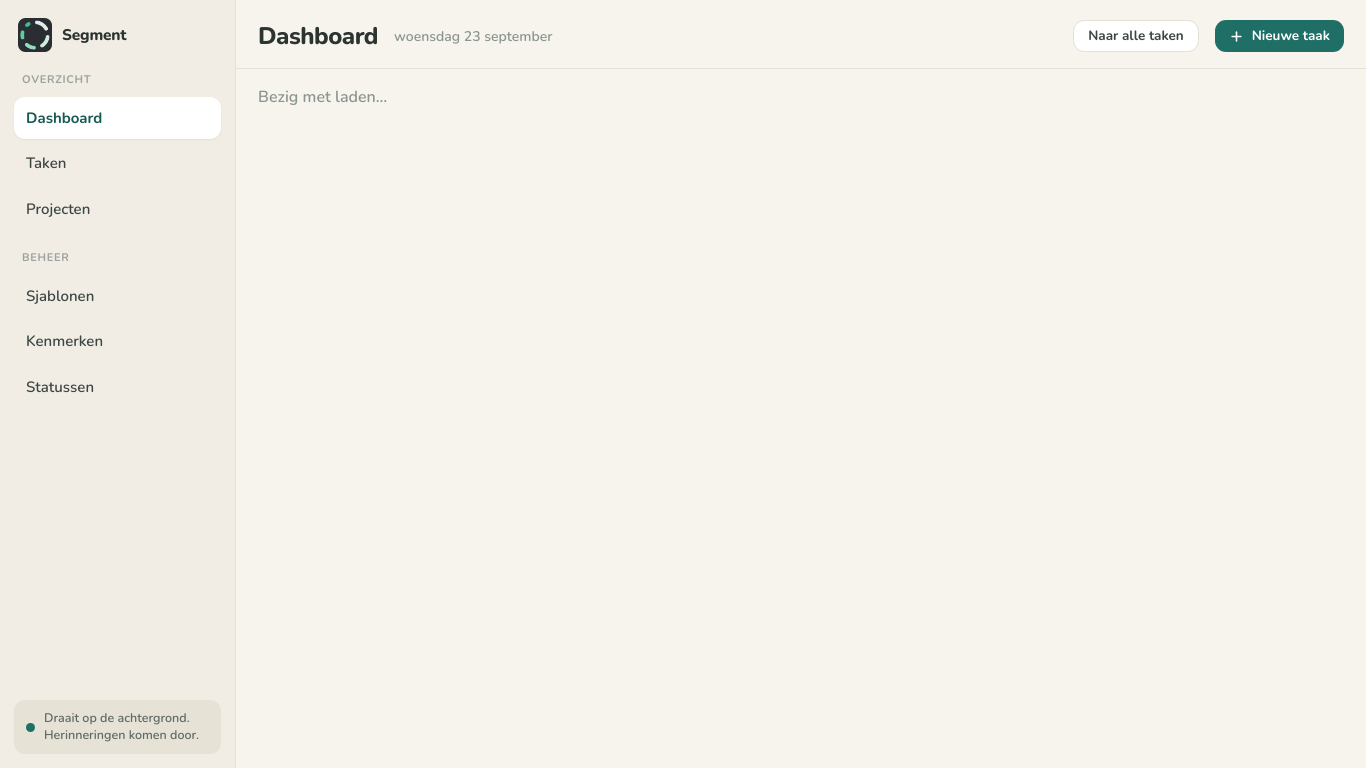
Test: App shell › navigates between destinations and marks the active item
Click the link "Statussen" at x=60, y=386, box 26,376 -> 94,396
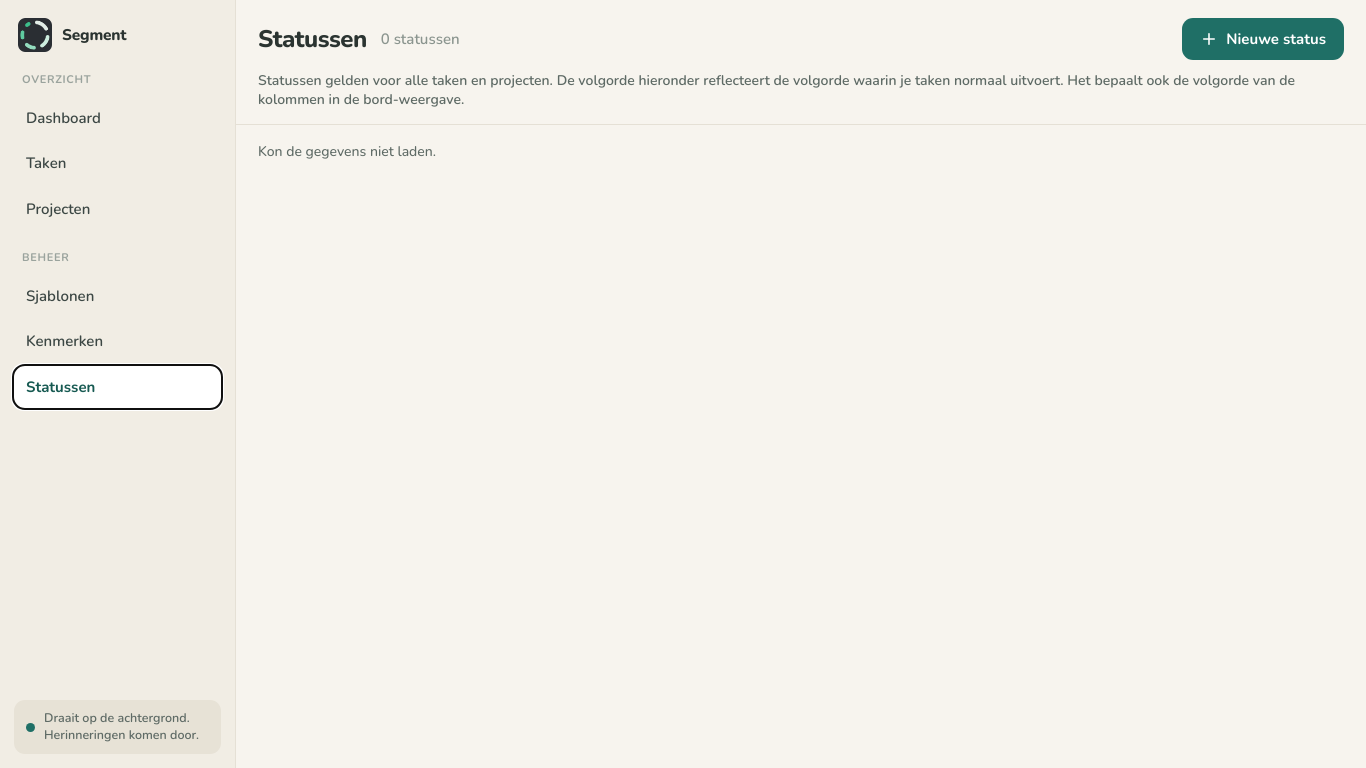
Check: the heading "Statussen" is shown, box 258,21 -> 367,57
